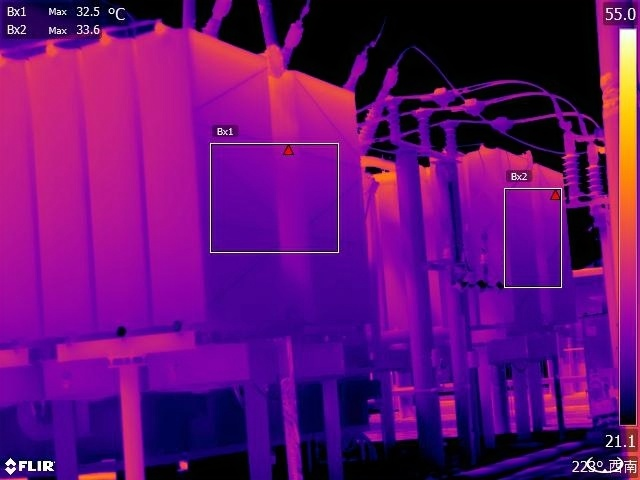post insulator: (561, 141, 582, 196), (379, 106, 410, 143), (409, 110, 436, 148), (587, 141, 604, 196), (440, 124, 462, 156)
transformer: (1, 22, 372, 354), (367, 147, 559, 358)
tube: (358, 46, 411, 148), (333, 30, 383, 116), (274, 1, 324, 66), (201, 1, 237, 30)
